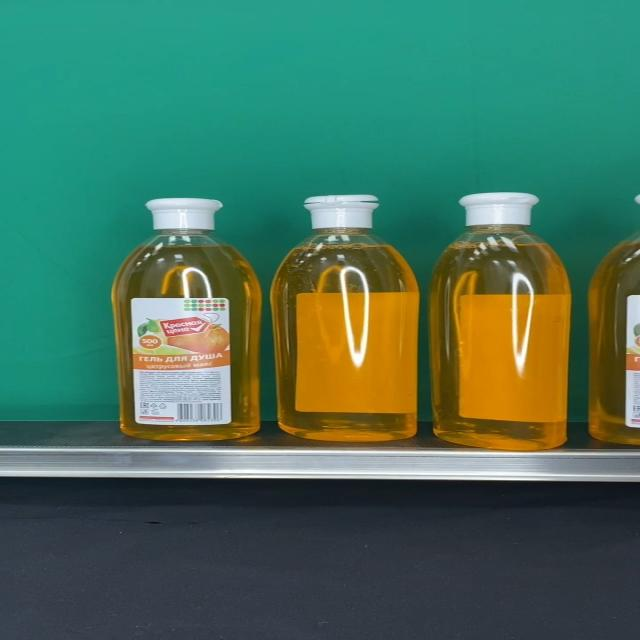Bottle: (270, 195, 419, 442), (113, 197, 262, 440), (432, 193, 571, 450)
Cap: (458, 193, 540, 225), (303, 195, 380, 229), (145, 197, 223, 230)
